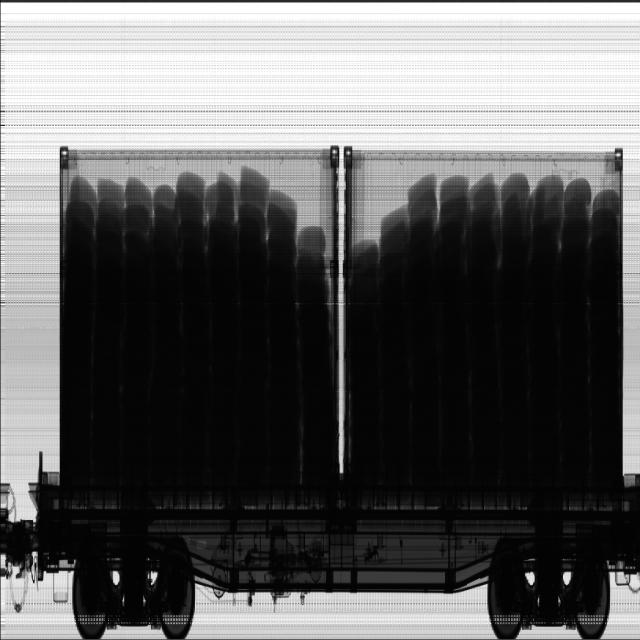clothes: (66, 167, 340, 492), (351, 174, 616, 489)
